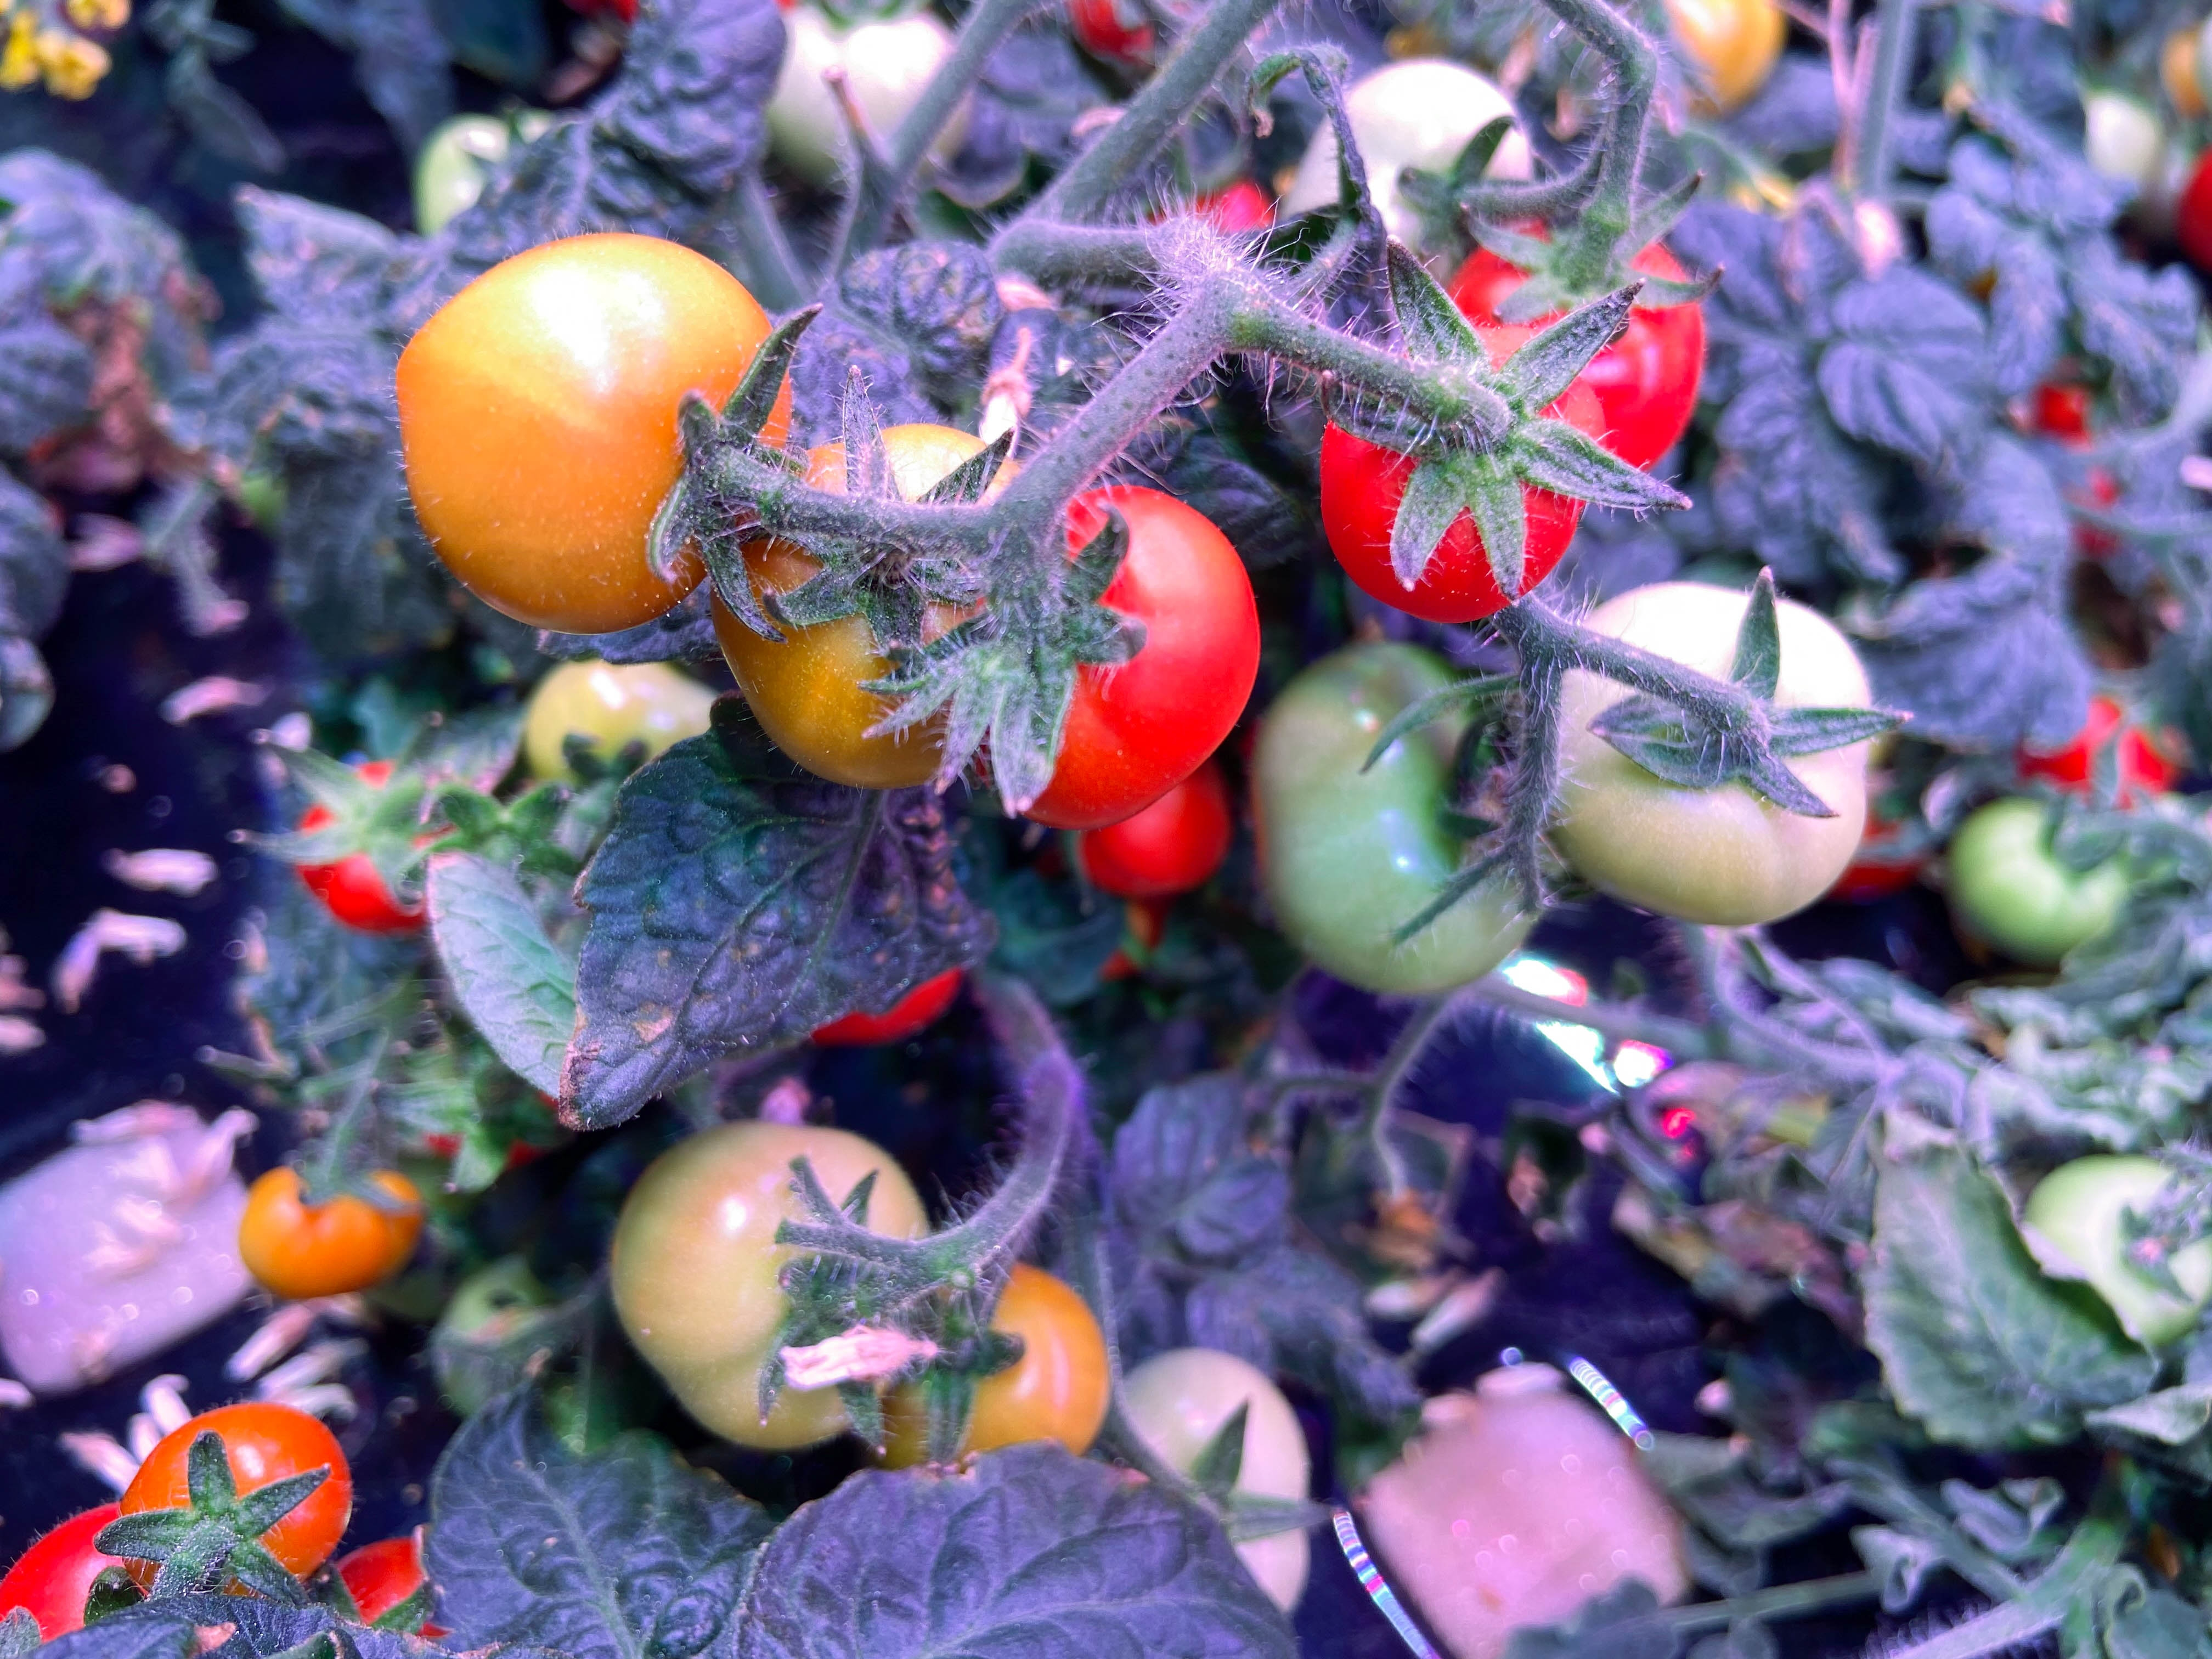green: (1540, 572, 1886, 929), (603, 1114, 934, 1450), (1247, 641, 1543, 1002), (1099, 1344, 1315, 1605), (1285, 54, 1540, 275), (766, 3, 970, 185), (2019, 1148, 2202, 1338), (1951, 796, 2134, 960), (521, 652, 723, 798), (428, 1258, 549, 1420), (411, 113, 538, 263)
red: (394, 223, 792, 634), (714, 423, 1015, 800), (968, 476, 1259, 821), (1453, 220, 1707, 479), (1312, 390, 1580, 626), (859, 1258, 1113, 1476), (115, 1394, 357, 1608), (296, 758, 465, 932), (0, 1506, 186, 1654), (235, 1152, 423, 1298), (2026, 666, 2182, 823), (1068, 758, 1237, 896), (287, 1535, 463, 1659), (1623, 0, 1791, 117), (1141, 173, 1284, 282), (806, 957, 965, 1044), (1066, 0, 1153, 59)
